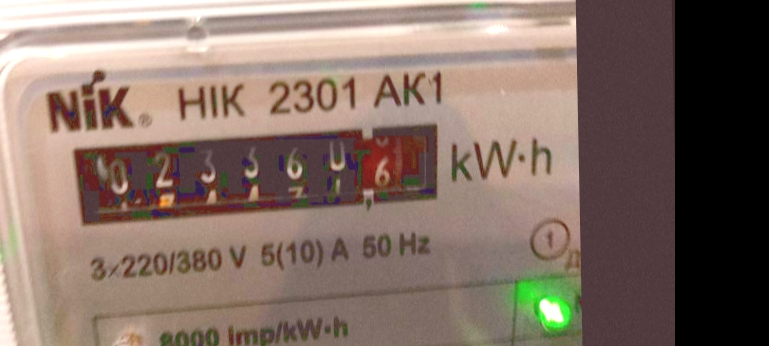0: (104, 154, 130, 197), (324, 135, 348, 172)
2: (148, 147, 175, 188)
3: (195, 144, 217, 185), (237, 142, 260, 180)
6: (279, 141, 306, 182), (372, 153, 393, 189)
screen: (50, 109, 453, 235)
